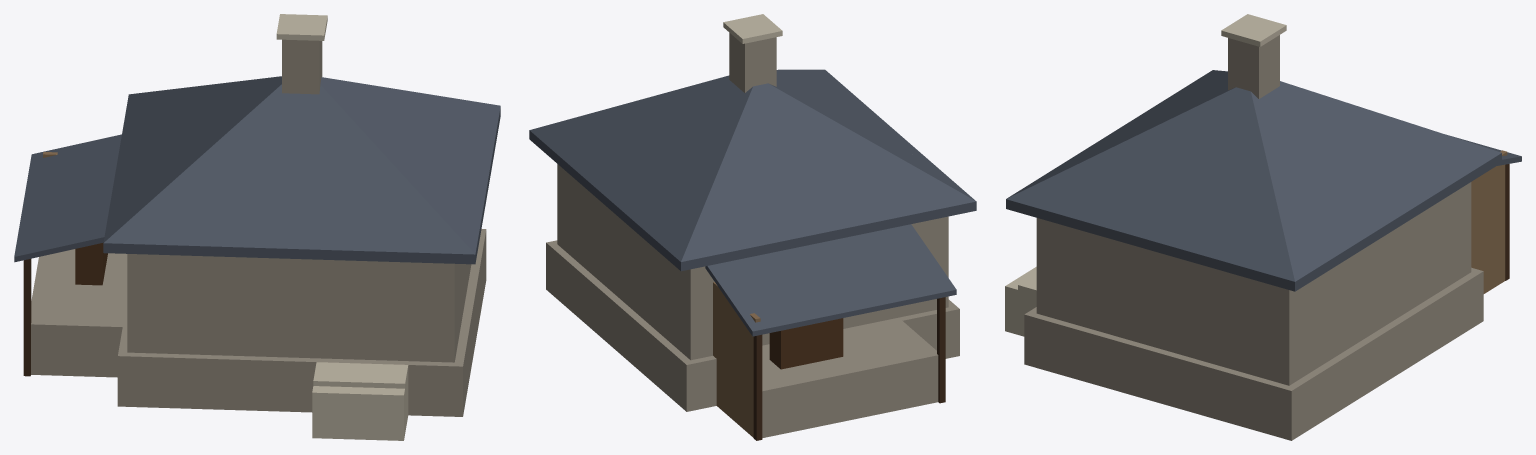
File: SM_WillowPond_House4.fbx
3 renders of one model, left to right at view 1: azimuth 30°, elevation 25°; view 2: azimuth 150°, elevation 25°; view 3: azimuth 270°, elevation 25°, orthographic. The views are drawn at different scales.
Parts seen in each view (by area): view 1: SM_WillowPond_House4; view 2: SM_WillowPond_House4; view 3: SM_WillowPond_House4.
Boxes of the visible parts, x1,y1,x2,y2 form: SM_WillowPond_House4: [14, 14, 500, 440]; SM_WillowPond_House4: [529, 14, 976, 440]; SM_WillowPond_House4: [1005, 14, 1521, 440].
Size of the model in its own units: 10.98 by 7.06 by 10.5.
